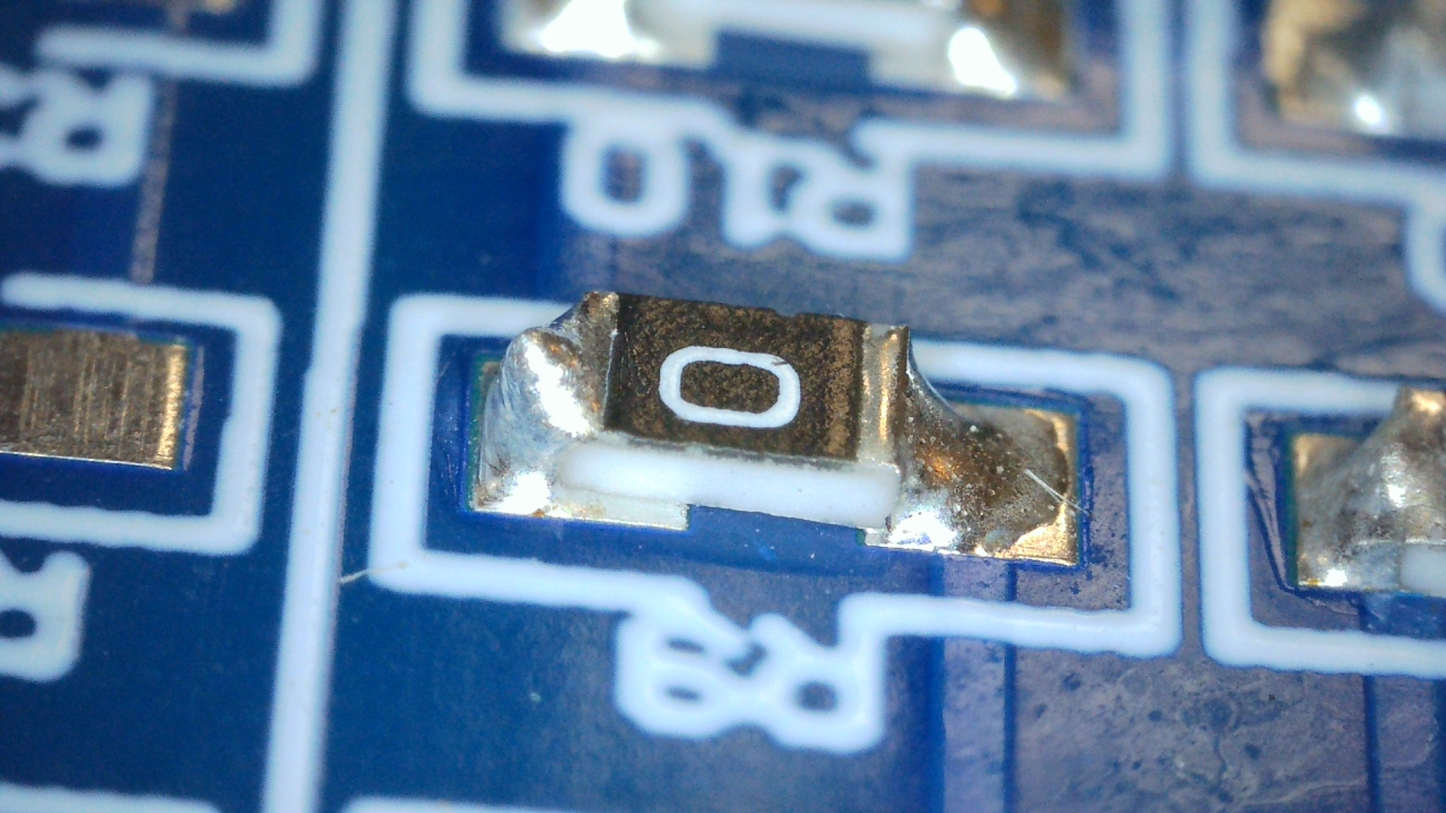NG: (858, 324, 1016, 541), (497, 325, 599, 459)
